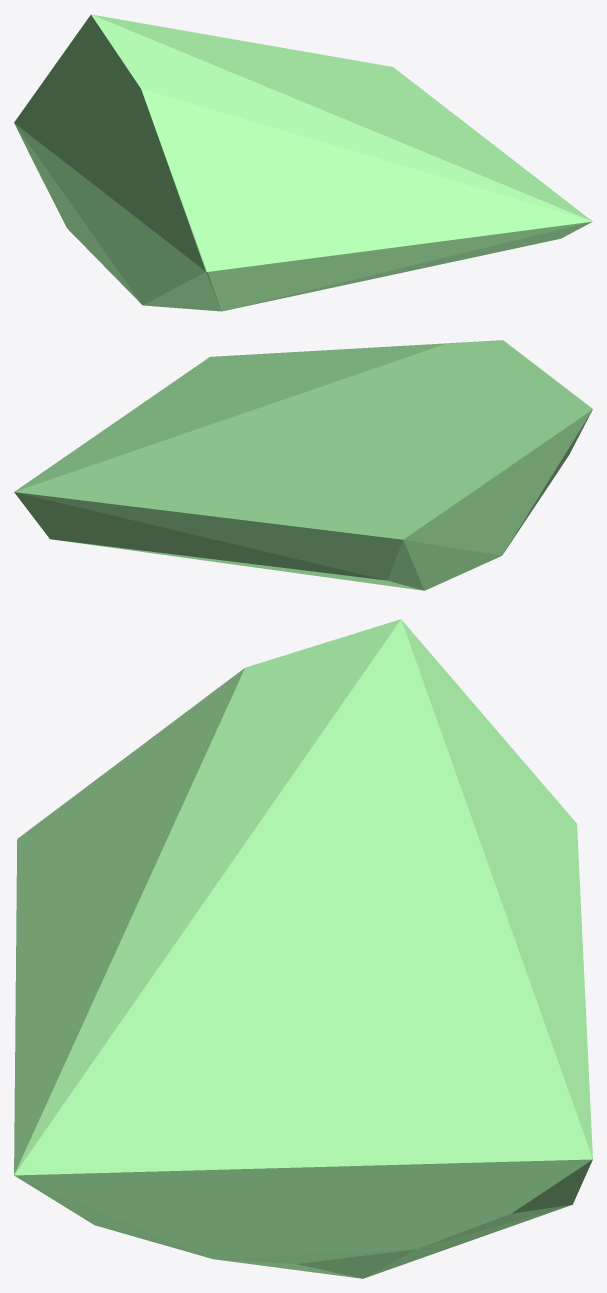
File: UMIRobot_UMIRobot_link_5_convex_coll_2.dae
3 renders of one model, top to bottom at view 1: azimuth 30°, elevation 25°; view 2: azimuth 150°, elevation 25°; view 3: azimuth 270°, elevation 25°, orthographic. The views are drawn at different scales.
Visible parts, largest first — view 1: node; view 2: node; view 3: node.
Part boxes in pixels (box(x1,y1,x2,y2)): node: box(14, 14, 592, 311); node: box(14, 340, 592, 590); node: box(14, 619, 592, 1278).
Bounding box in the file's own units: 0.004 × 0.00285 × 0.00355.
